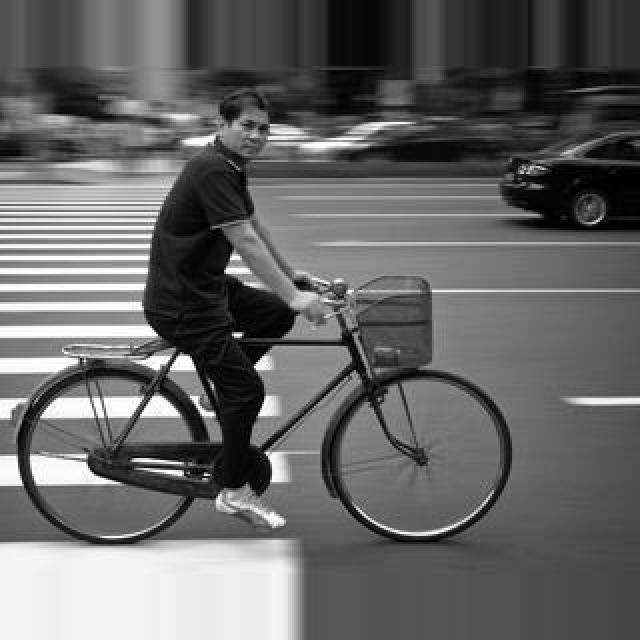Bus-Bike: (500, 130, 640, 228)
MC-Bike: (142, 86, 340, 536)
Person: (6, 266, 510, 536)
